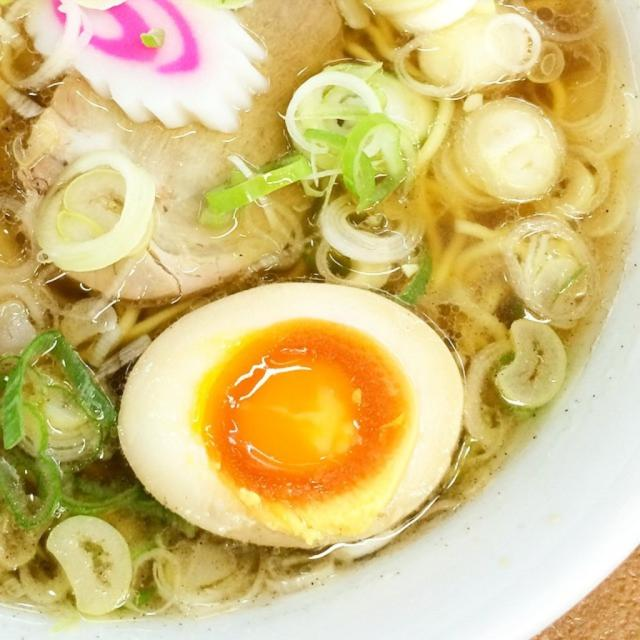Egg: (116, 276, 463, 551)
